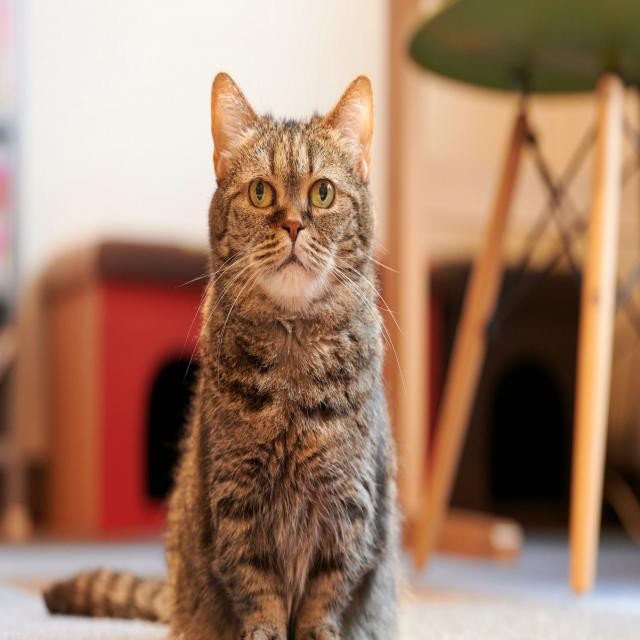Munchkin: (46, 61, 408, 640)
